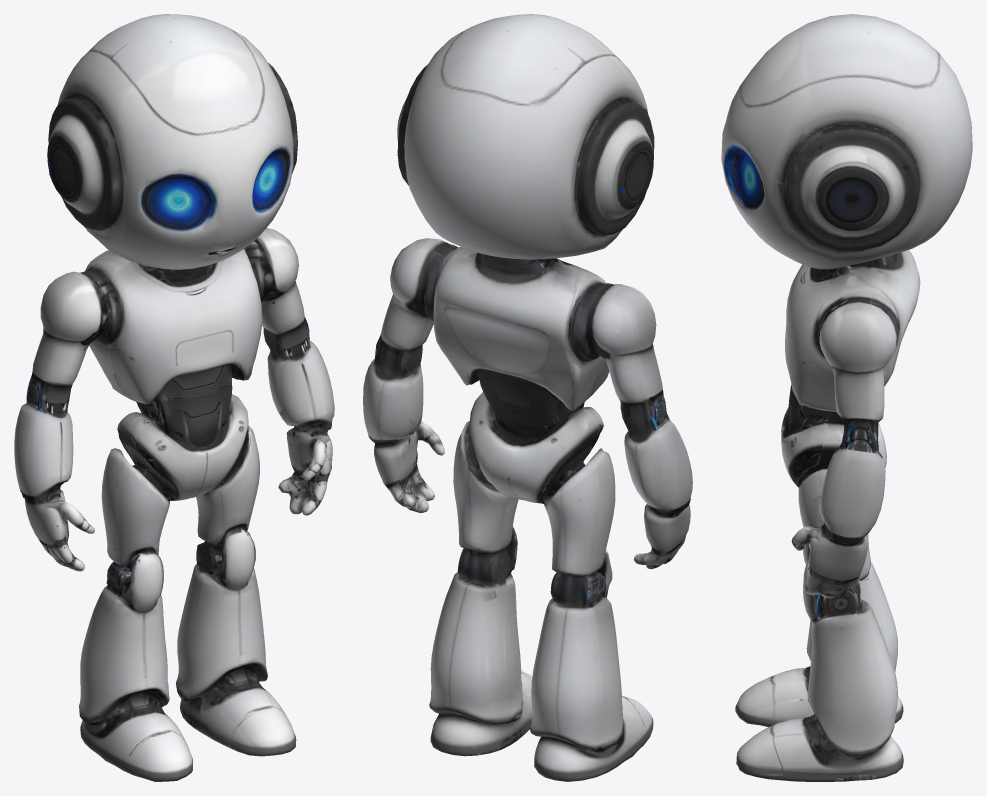
The model's file is myrobot.glb.
3 renders of one model, left to right at view 1: azimuth 30°, elevation 25°; view 2: azimuth 150°, elevation 25°; view 3: azimuth 270°, elevation 25°, orthographic. The views are drawn at different scales.
Bounding box in the file's own units: 0.9268 × 2 × 0.6383.
Materials: 1 (1 with a texture image).
